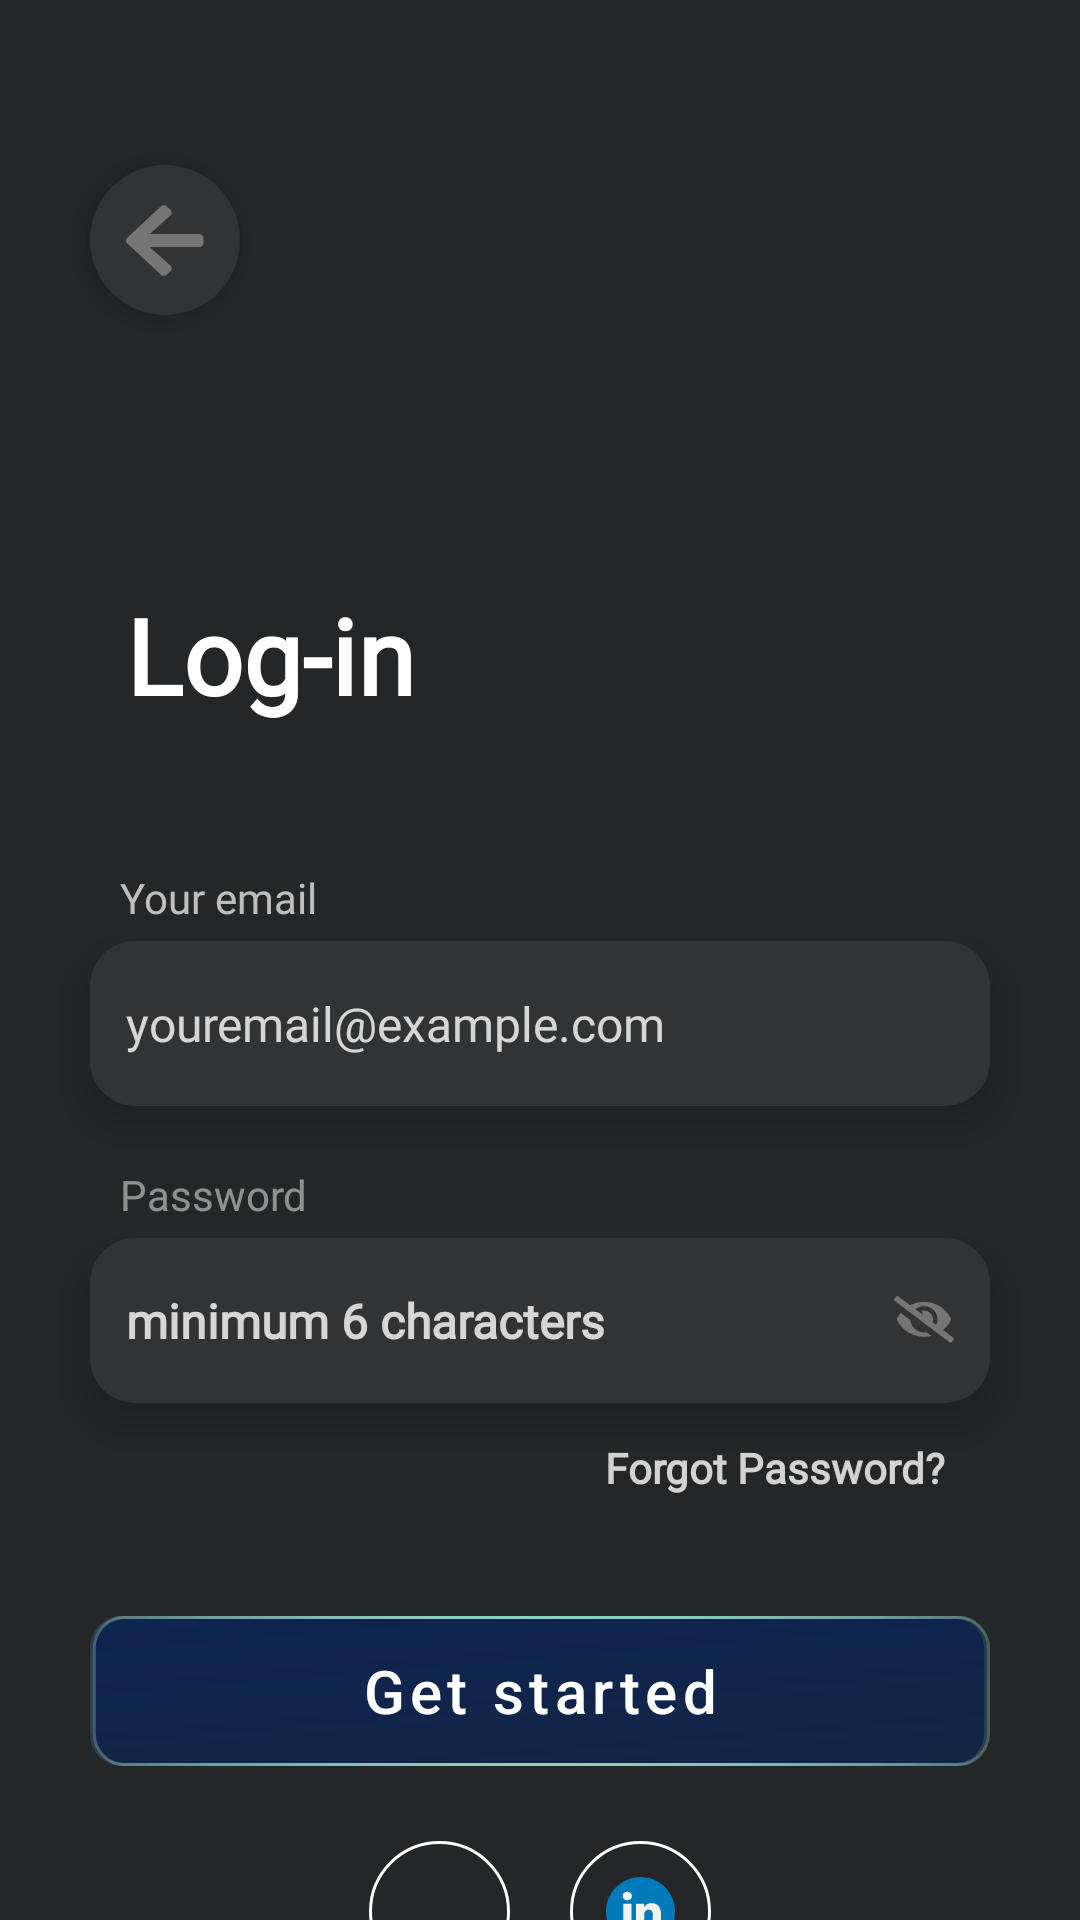

Where to tap for icons on this 1080 × 1920 app screen, as (x,y):
back arrow: (165,240)
